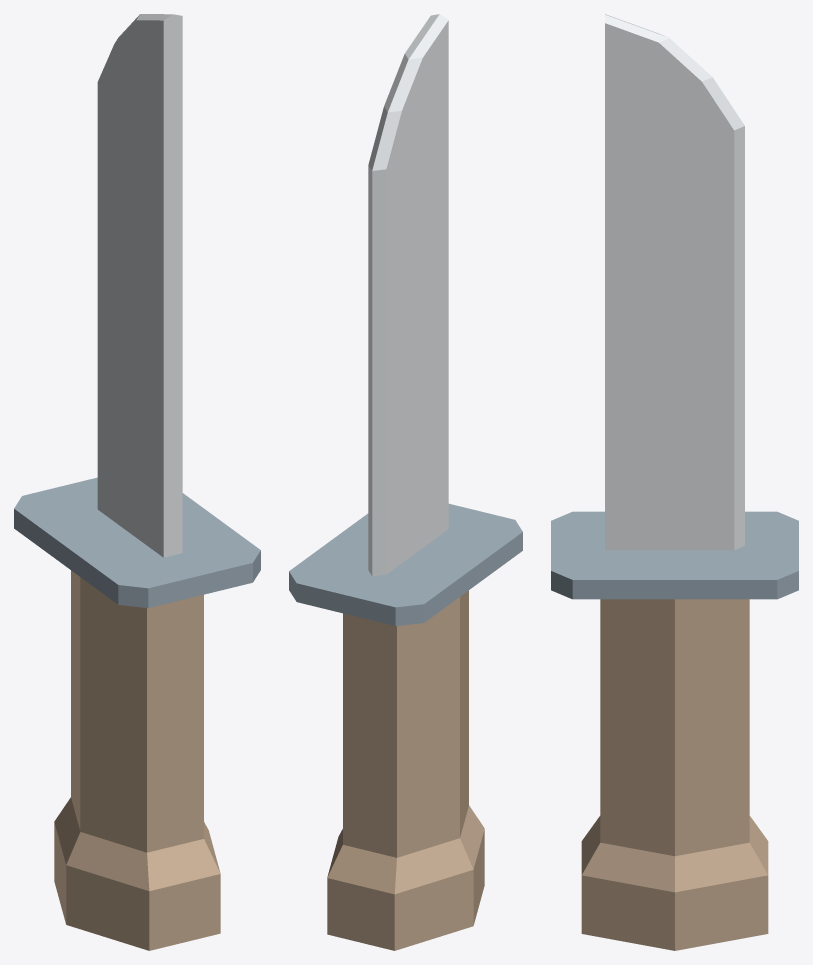
Rendered from knife_smooth.gltf.
3 renders of one model, left to right at view 1: azimuth 30°, elevation 25°; view 2: azimuth 150°, elevation 25°; view 3: azimuth 270°, elevation 25°, orthographic. The views are drawn at different scales.
Parts seen in each view (by area): view 1: knife_smooth; view 2: knife_smooth; view 3: knife_smooth.
Boxes of the visible parts, x1,y1,x2,y2 form: knife_smooth: [14, 14, 260, 950]; knife_smooth: [289, 14, 522, 950]; knife_smooth: [551, 14, 798, 950].
Bounding box in the file's own units: 0.0574 × 0.3537 × 0.088.
